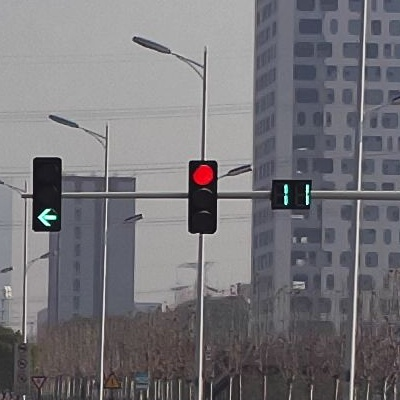green_arrow_left: (33, 157, 61, 232)
red_circle: (188, 161, 218, 234)
